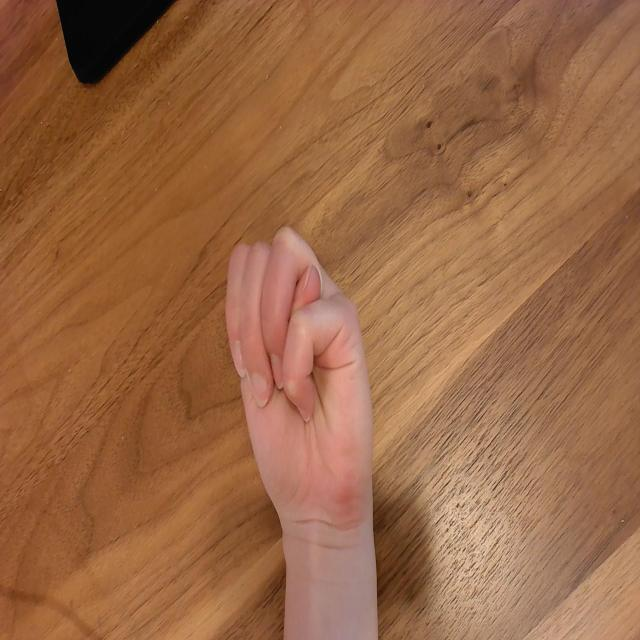M: (225, 218, 377, 539)
